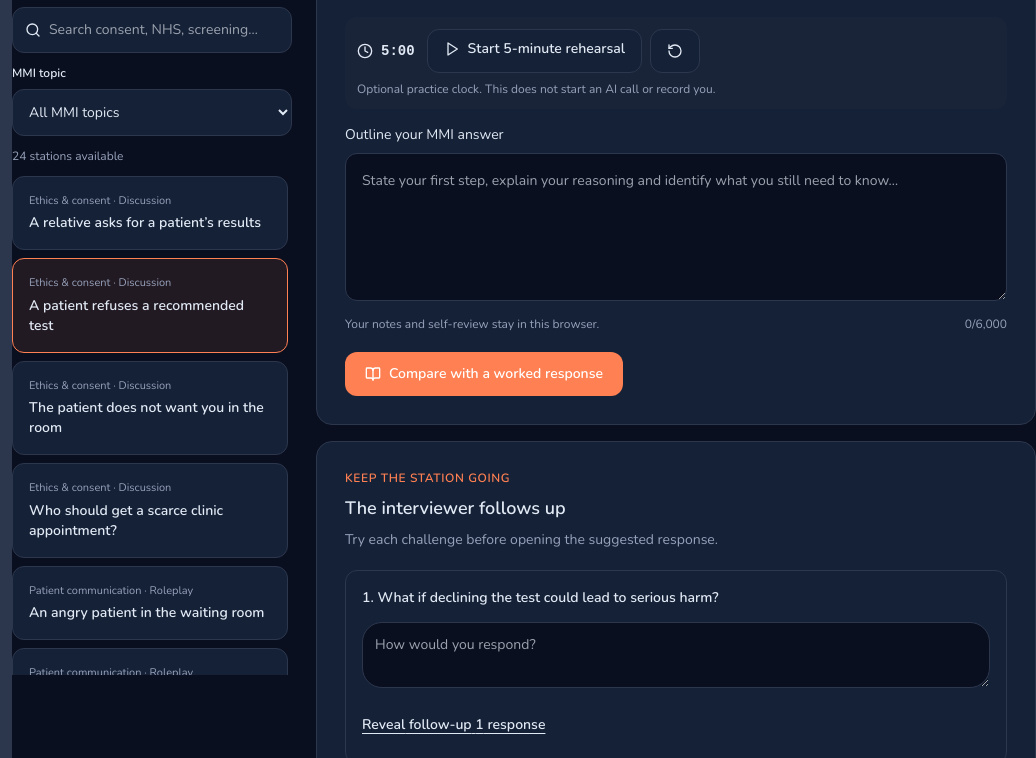
MMI practice library › opens a bookmarked medical scenario and keeps its response hidden until requested
(page scrolled)
Click the button "Compare with a worked response" at {"x": 484, "y": 374}, box left=345, top=352, right=623, bottom=396
(page scrolled)
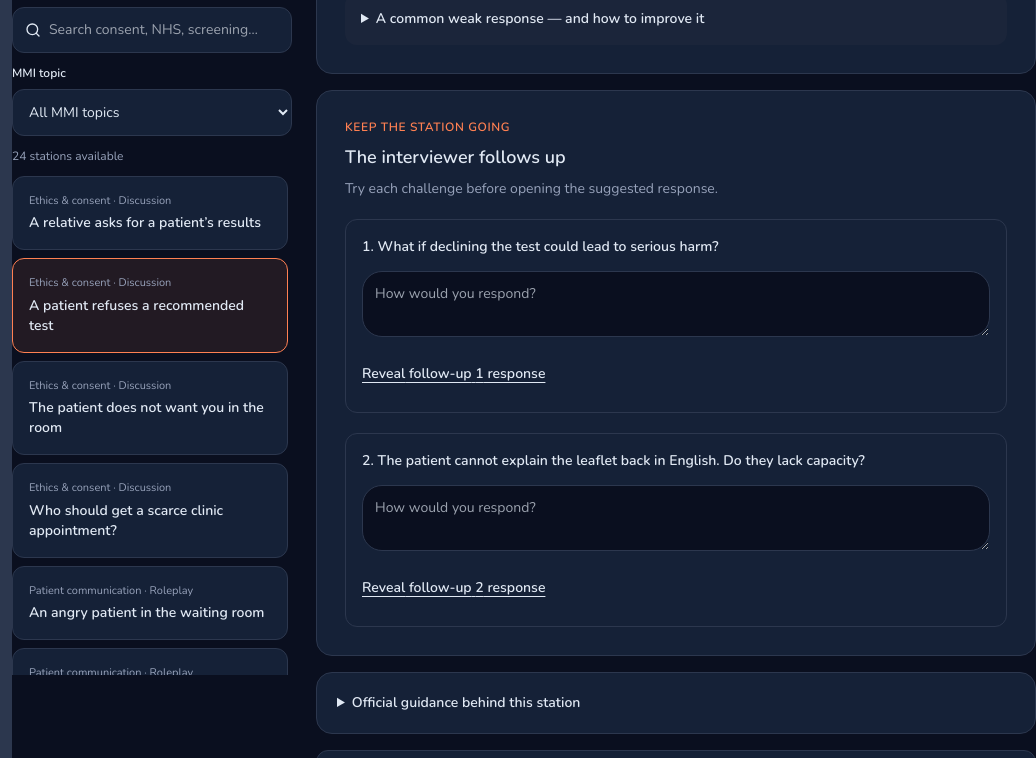
Click the button "Reveal follow-up 1 response" at {"x": 454, "y": 374}, box left=362, top=352, right=545, bottom=396
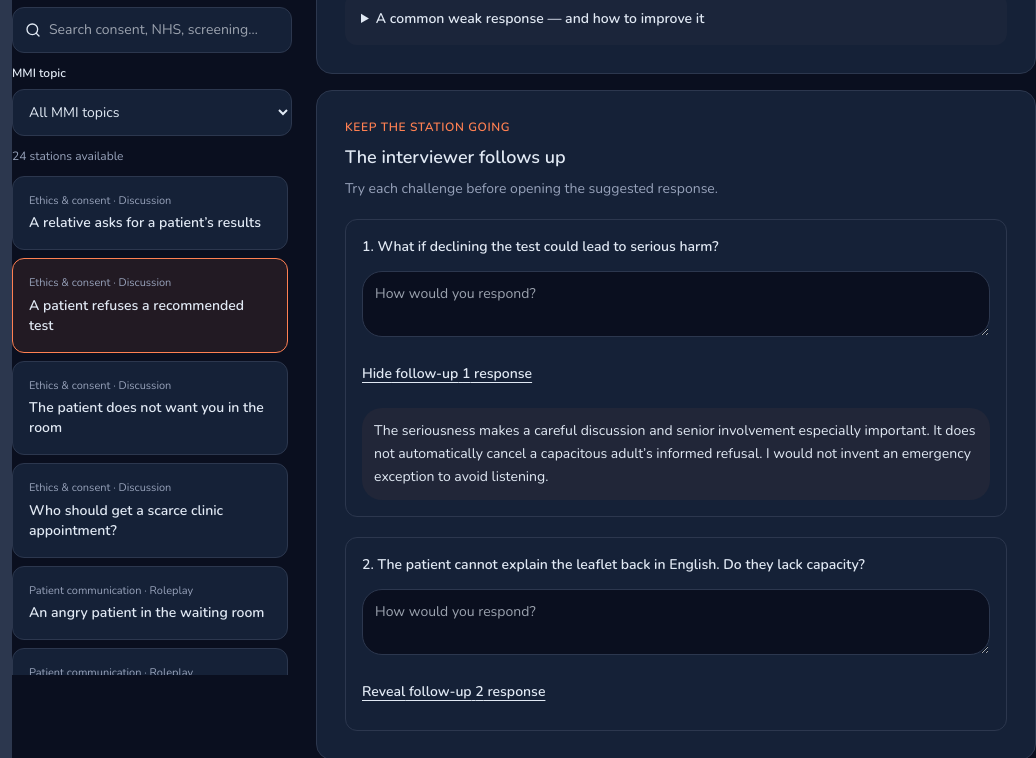
Now the text with id "followup-answer-0" shows "informed refusal", box left=374, top=421, right=975, bottom=486
